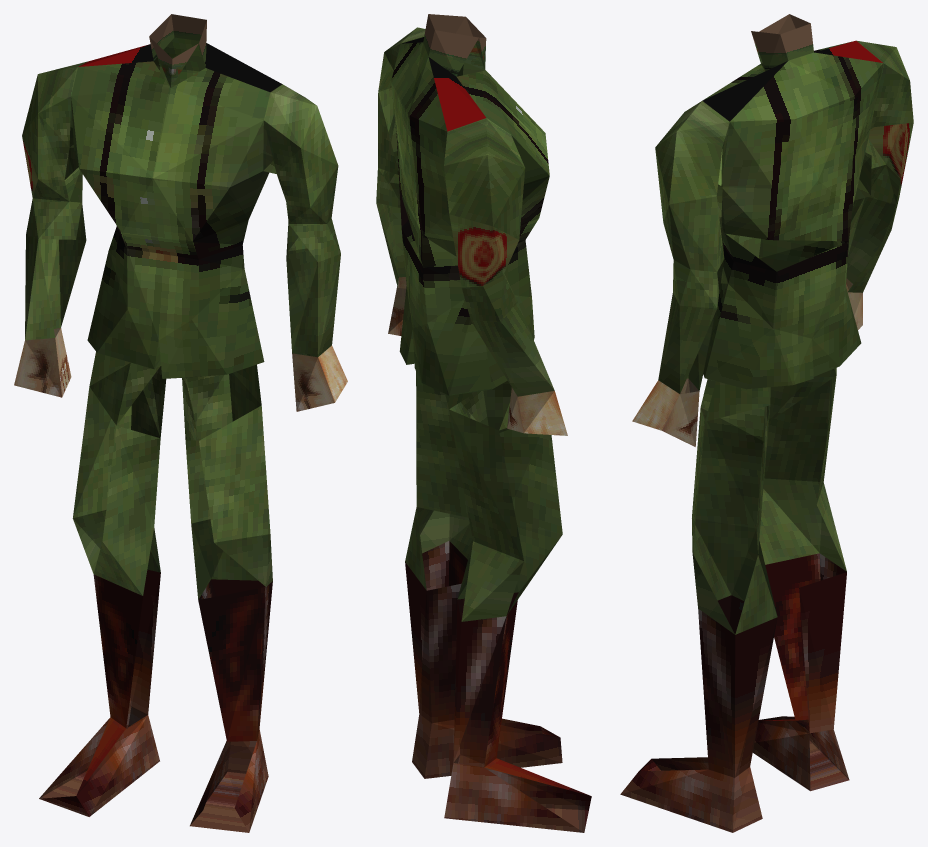
File: guard_1.glb
3 renders of one model, left to right at view 1: azimuth 30°, elevation 25°; view 2: azimuth 150°, elevation 25°; view 3: azimuth 270°, elevation 25°, orthographic. The views are drawn at different scales.
Parts seen in each view (by area): view 1: Object; view 2: Object; view 3: Object.
Boxes of the visible parts, left/top/right/bottom form: Object: left=14, top=14, right=347, bottom=832; Object: left=376, top=14, right=591, bottom=832; Object: left=620, top=14, right=913, bottom=832.
Bounding box in the file's own units: 0.6361 × 1.83 × 0.623.
Materials: 64 (64 with a texture image).
